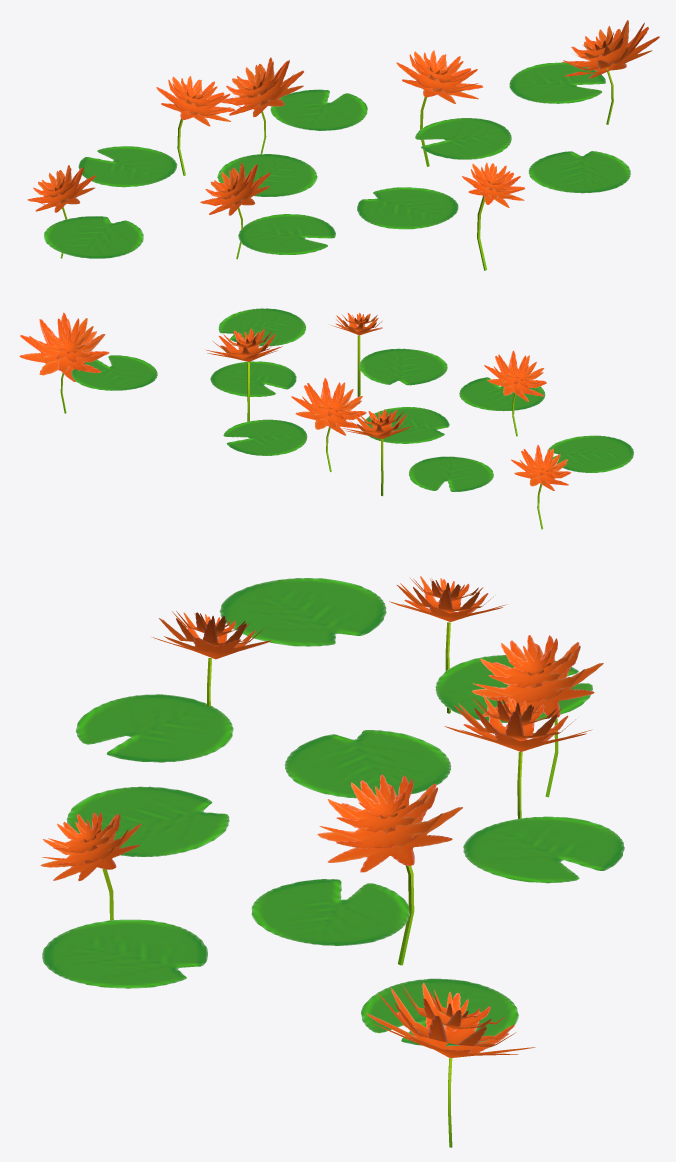
Rendered from lotus_1.fbx.
3 views of the same model, one above another, from view 1: azimuth 30°, elevation 25°; view 2: azimuth 150°, elevation 25°; view 3: azimuth 270°, elevation 25° (orthographic). The views are drawn at different scales.
Parts seen in each view (by area): view 1: lotus_1; view 2: lotus_1; view 3: lotus_1.
Boxes of the visible parts, left/top/right/bottom form: lotus_1: left=27, top=20, right=659, bottom=270; lotus_1: left=19, top=308, right=633, bottom=529; lotus_1: left=40, top=576, right=624, bottom=1147.
Bounding box in the file's own units: 400 × 83.29 × 204.
